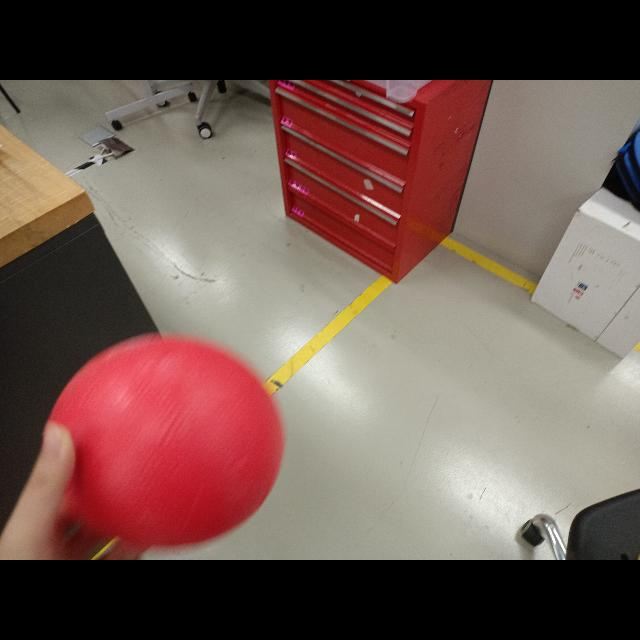R: (41, 332, 285, 550)
